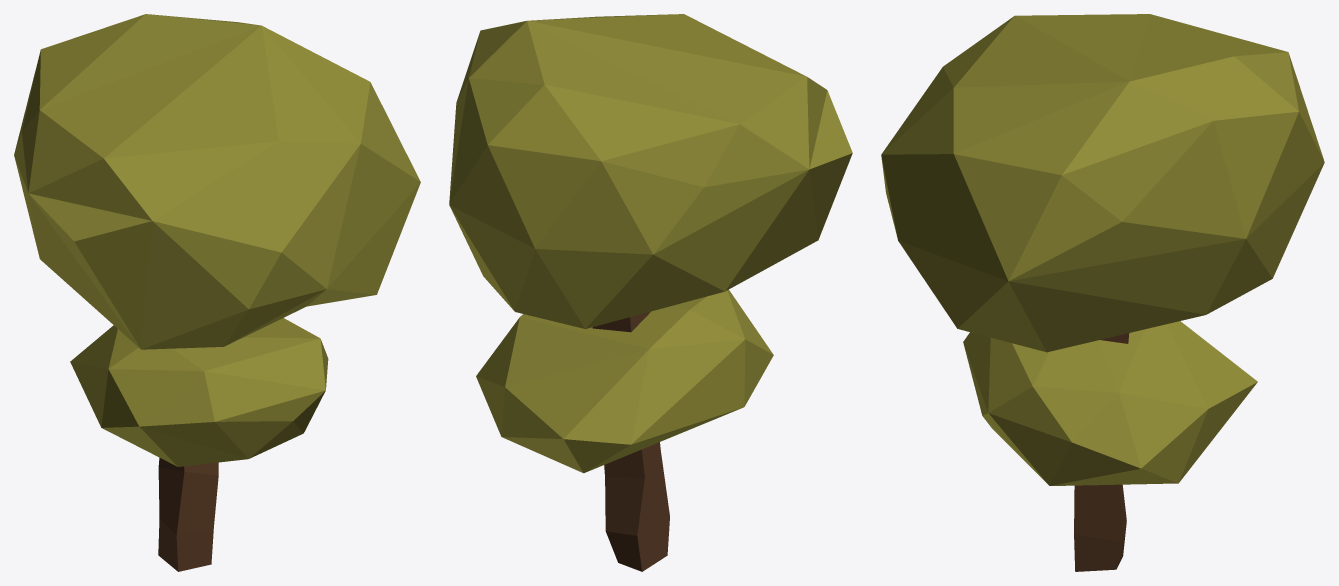
Rendered from Tree_52_Yellow.fbx.
The picture shows the model from 3 angles, left to right: view 1: azimuth 30°, elevation 25°; view 2: azimuth 150°, elevation 25°; view 3: azimuth 270°, elevation 25°; orthographic projection. The views are drawn at different scales.
Visible parts, largest first — view 1: Tree_52_Yellow_Part_1, Tree_52_Yellow_Part_2; view 2: Tree_52_Yellow_Part_1, Tree_52_Yellow_Part_2; view 3: Tree_52_Yellow_Part_1, Tree_52_Yellow_Part_2.
Boxes of the visible parts, bbox=[...] form: Tree_52_Yellow_Part_1: bbox=[14, 14, 420, 466]; Tree_52_Yellow_Part_2: bbox=[158, 457, 218, 571]; Tree_52_Yellow_Part_1: bbox=[449, 14, 852, 473]; Tree_52_Yellow_Part_2: bbox=[592, 311, 669, 571]; Tree_52_Yellow_Part_1: bbox=[881, 14, 1324, 485]; Tree_52_Yellow_Part_2: bbox=[1074, 333, 1129, 571].
Size of the model in its own units: 447 by 607 by 461.
